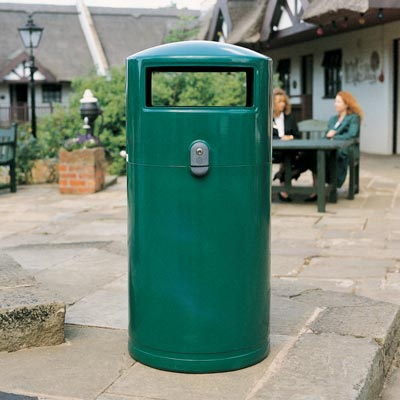TrashBin: (118, 37, 284, 377)
